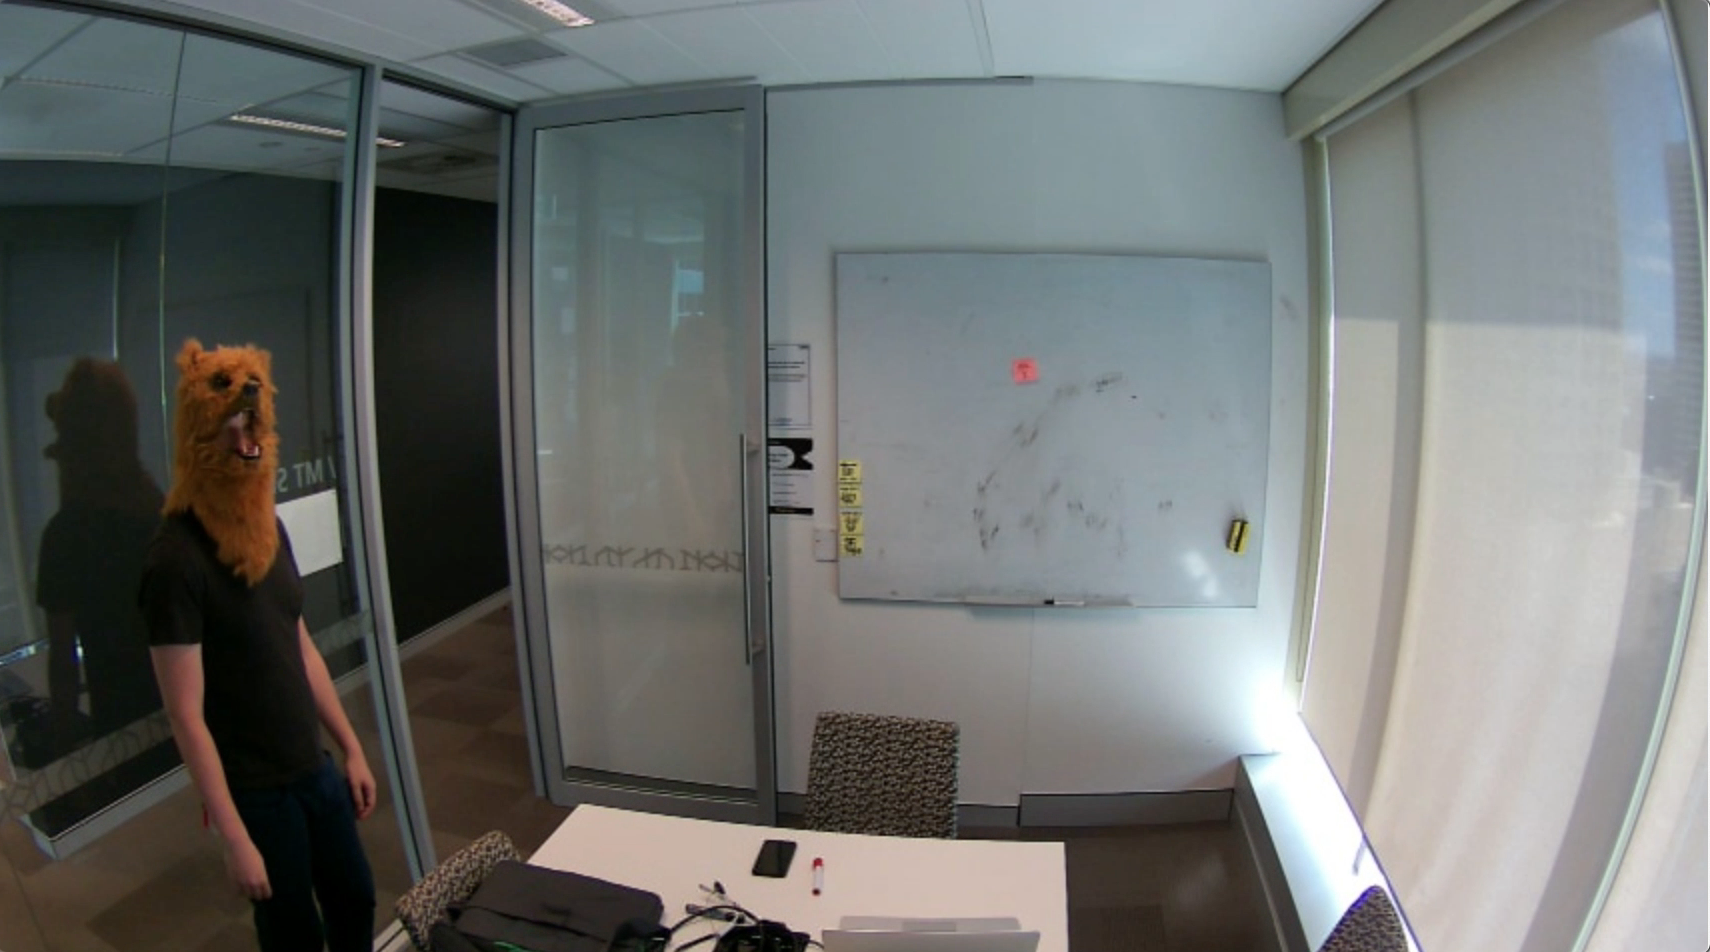Bear: (165, 334, 284, 509)
